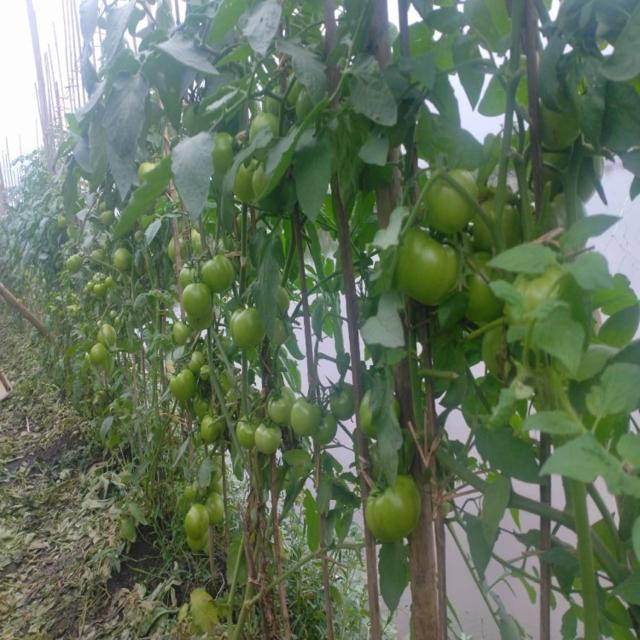tomato: (397, 221, 459, 307), (422, 164, 481, 234), (368, 478, 421, 544), (463, 250, 500, 337), (291, 397, 326, 441), (180, 288, 217, 322), (236, 310, 270, 346), (265, 388, 300, 422), (206, 256, 238, 292), (213, 127, 237, 174), (256, 423, 287, 459), (132, 152, 164, 185), (237, 158, 259, 201), (172, 368, 197, 401), (313, 413, 336, 448), (333, 384, 357, 417), (184, 344, 209, 373), (183, 506, 208, 534), (108, 248, 136, 273), (172, 324, 198, 350), (179, 259, 203, 284), (207, 495, 228, 523), (241, 414, 260, 444), (101, 326, 125, 349), (200, 417, 219, 443), (180, 529, 200, 551), (92, 344, 110, 366), (88, 245, 106, 267), (66, 256, 86, 271), (92, 286, 104, 301), (105, 279, 119, 291)
